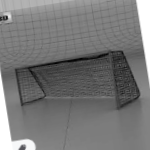goals: (13, 49, 142, 113)
